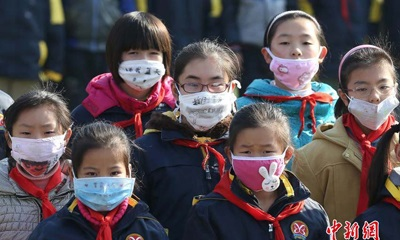face_mask: (181, 61, 232, 119), (233, 130, 281, 189), (273, 21, 321, 79), (350, 67, 396, 127), (13, 111, 61, 167), (80, 152, 125, 206), (122, 41, 163, 89)
